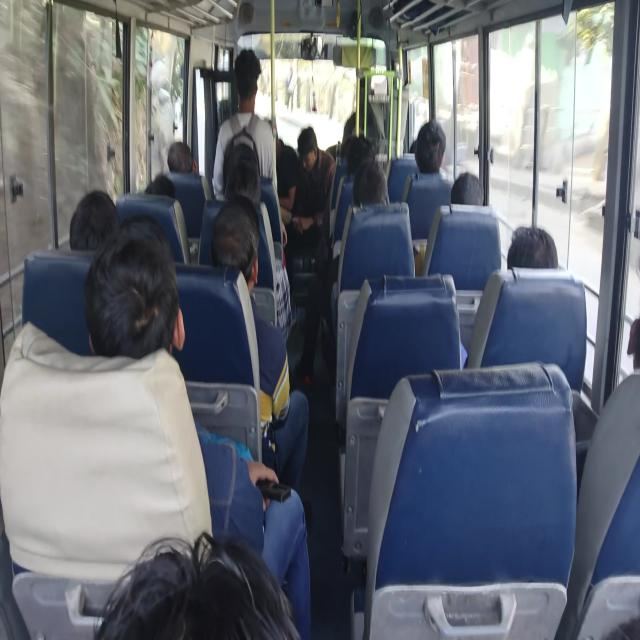person: (135, 512, 265, 640), (97, 260, 201, 350), (509, 208, 565, 286), (411, 120, 452, 182), (213, 203, 267, 250), (290, 121, 313, 229), (222, 144, 272, 193), (146, 175, 194, 220), (232, 47, 272, 96), (156, 134, 206, 170), (611, 300, 640, 360), (86, 192, 119, 238), (354, 164, 386, 202), (300, 125, 324, 171), (464, 164, 485, 207), (342, 142, 370, 160)
